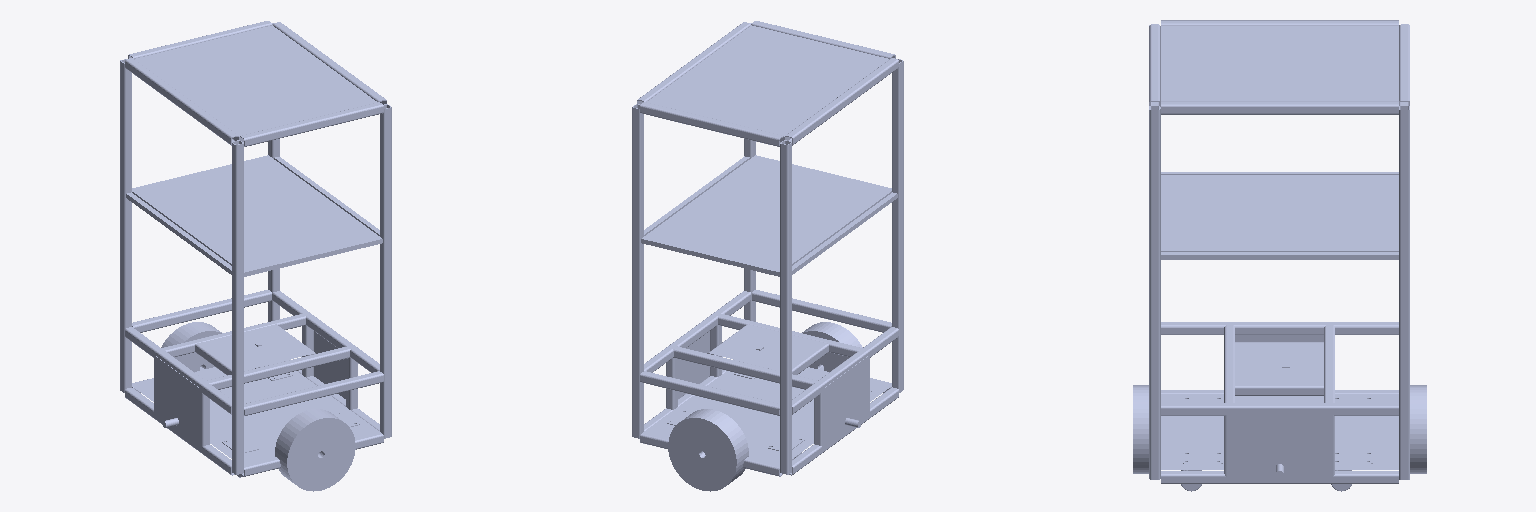
URDF robot description (amr_assembly):
<?xml version="1.0"?>
<robot name="amr_assembly">

  <!-- =====================================================================
       amr_assembly  —  differential-drive service robot (SolidWorks export)
       Cleaned for ROS 2: robot_state_publisher / tf2 / RViz2 / Gazebo.

       Frame conventions (REP-103):  +X forward, +Y left, +Z up.

       *** 180-DEG FRAME CORRECTION APPLIED ***
       The physical FRONT of the robot is the LiDAR + RealSense side.
       In the raw CAD export that side pointed to base_link -X.  base_link has
       been redefined as a proper ROS frame:
         * rotated 180 deg about Z relative to the CAD frame, so the LiDAR /
           RealSense side is now +X (forward);
         * origin placed on the drive-wheel axle centreline and midway between
           the wheels (CAD point -0.225, 0.1725, 0), so the wheel midpoint lies
           on the robot centreline (Y=0).
       NO mesh geometry was moved.  The correction lives entirely in the joint
       origin/rpy values (each mesh visual origin carries a compensating
       transform so every part stays physically where the CAD placed it).

       VERIFIED FROM MESH DATA + FRAME MATH:
         * drive wheel radius = 0.080 m (mesh X/Z span 0.1599, spin axis = +Y)
         * drive-wheel lowest point = base_link Z -0.055  ->  base_footprint OK
         * left_wheel  now at +Y (mesh wheel_1_2), right_wheel at -Y (wheel_1)
         * both wheels: +velocity about +Y  ->  +X forward motion
         * laser_frame == world orientation  -> scan plane horizontal in XY
         * imu_link   == world orientation  -> X fwd / Y left / Z up
         * camera optical Z = +X (viewing dir), X = right, Y = down (REP-103)
         * LiDAR (+X 0.19) and RealSense (+X 0.24) both on the +X/front side

       NEEDS PHYSICAL VERIFICATION (mass/inertia only — geometry is verified):
         * chassis density = SolidWorks default 1000 (water); mass 2.58 kg is a
           placeholder.  LiDAR density 4335.71 tagged "1060-H14" (Al~2700) looks
           inconsistent.  RealSense 0.038 kg vs real D435i ~0.072 kg.  Values
           are PRESERVED from the export, not invented — replace when known.
       ===================================================================== -->

  <!-- ==================== Base Footprint & Base Link ==================== -->
  <link name="base_footprint"/>

  <joint name="base_footprint_joint" type="fixed">
    <origin xyz="0 0 0.055" rpy="0 0 0" />
    <parent link="base_footprint" />
    <child link="base_link" />
  </joint>

  <link name="base_link">
    <!-- sw2robot density="1000" inertia="solidworks" -->
    <visual>
      <!-- chassis mesh rotated 90 deg and centered on wheel axle -->
      <origin xyz="0.1725 0.225 0" rpy="0 0 1.57079632679" />
      <geometry>
        <mesh filename="package://amr_assembly_description/meshes/Chassis_1.dae" />
      </geometry>
    </visual>
    <collision>
      <origin xyz="0.1725 0.225 0" rpy="0 0 1.57079632679" />
      <geometry>
        <mesh filename="package://amr_assembly_description/meshes/Chassis_1.stl" />
      </geometry>
    </collision>
    <inertial>
      <origin xyz="0.0 0.2247 0.40790949" rpy="0 0 1.57079632679" />
      <mass value="2.58114" />
      <inertia ixx="0.225004" ixy="1.30104e-18" ixz="2.47797e-05" iyy="0.204923" iyz="1.74557e-17" izz="0.107037" />
    </inertial>
  </link>

  <!-- ==================== Differential-Drive Wheels ====================
       Physical AMR Hardware layout (from photographs):
         * left_wheel  at +Y (+0.235 m) (outer side of chassis)
         * right_wheel at -Y (-0.235 m) (outer side of chassis)
         * Wheel track width W = 0.470 m
         * joint axis = "0 1 0" (+Y): positive rotation drives robot forward (+X). -->
  <link name="left_wheel">
    <!-- physical LEFT wheel (+Y); mesh wheel_1_2 -->
    <visual>
      <origin xyz="0 0 0" rpy="0 0 0" />
      <geometry>
        <mesh filename="package://amr_assembly_description/meshes/wheel_1_2.dae" />
      </geometry>
    </visual>
    <collision>
      <!-- simplified: drive-wheel primitive (r=0.070, w=0.050, axis=+Y local) -->
      <origin xyz="0 0 0" rpy="1.5707963 0 0" />
      <geometry>
        <cylinder radius="0.070" length="0.050" />
      </geometry>
    </collision>
    <inertial>
      <origin xyz="-9.7144515e-17 0.0051290801 1.5612511e-17" rpy="0 0 0" />
      <mass value="0.996474" />
      <inertia ixx="0.00181597" ixy="3.51575e-36" ixz="-4.98632e-20" iyy="0.00321674" iyz="-3.77852e-36" izz="0.00181597" />
    </inertial>
  </link>

  <joint name="left_wheel_joint" type="continuous">
    <origin xyz="0 0.235 0.015" rpy="0 0 0" />
    <parent link="base_link" />
    <child link="left_wheel" />
    <axis xyz="0 1 0" />
    <!-- mates: CONCENTRIC, CONCENTRIC -->
  </joint>

  <link name="right_wheel">
    <!-- physical RIGHT wheel (-Y); mesh wheel_1 -->
    <visual>
      <origin xyz="0 0 0" rpy="0 0 0" />
      <geometry>
        <mesh filename="package://amr_assembly_description/meshes/wheel_1.dae" />
      </geometry>
    </visual>
    <collision>
      <!-- simplified: drive-wheel primitive (r=0.070, w=0.050, axis=+Y local) -->
      <origin xyz="0 0 0" rpy="1.5707963 0 0" />
      <geometry>
        <cylinder radius="0.070" length="0.050" />
      </geometry>
    </collision>
    <inertial>
      <origin xyz="-9.5409791e-17 -0.0044220319 -4.3368087e-18" rpy="0 0 0" />
      <mass value="0.996474" />
      <inertia ixx="0.00181597" ixy="2.00001e-36" ixz="-1.80785e-19" iyy="0.00321674" iyz="-4.75791e-36" izz="0.00181597" />
    </inertial>
  </link>

  <joint name="right_wheel_joint" type="continuous">
    <origin xyz="0 -0.235 0.015" rpy="0 0 0" />
    <parent link="base_link" />
    <child link="right_wheel" />
    <axis xyz="0 1 0" />
    <!-- mates: CONCENTRIC, CONCENTRIC -->
  </joint>

  <!-- ==================== Passive Caster Wheels ==================== -->
  <link name="caster_wheel1">
    <!-- sw2robot density="1000" inertia="solidworks" -->
    <visual>
      <origin xyz="0 0 0" rpy="0 0 0" />
      <geometry>
        <mesh filename="package://amr_assembly_description/meshes/C_wheel_2_WS_1.dae" />
      </geometry>
    </visual>
    <collision>
      <!-- simplified: caster contact sphere (bottom matches CAD mesh, r=0.030) -->
      <origin xyz="0 -0.009174 -0.008682" rpy="0 0 0" />
      <geometry>
        <sphere radius="0.030" />
      </geometry>
    </collision>
    <inertial>
      <origin xyz="-5e-08 -0.008653401 0.003658362" rpy="0 0 0" />
      <mass value="0.0585304" />
      <inertia ixx="3.05e-05" ixy="-1.01609e-20" ixz="2.14745e-21" iyy="1.86277e-05" iyz="-8.03269e-06" izz="2.56674e-05" />
    </inertial>
  </link>

  <joint name="caster_wheel1_joint" type="fixed">
    <origin xyz="0.1174 0.1208 -0.007140912" rpy="1.5707963 0 0" />
    <parent link="base_link" />
    <child link="caster_wheel1" />
  </joint>

  <link name="caster_wheel2">
    <!-- sw2robot density="1000" inertia="solidworks" -->
    <visual>
      <origin xyz="0 0 0" rpy="0 0 0" />
      <geometry>
        <mesh filename="package://amr_assembly_description/meshes/C_wheel_2_WS_1.dae" />
      </geometry>
    </visual>
    <collision>
      <!-- simplified: caster contact sphere (bottom matches CAD mesh, r=0.030) -->
      <origin xyz="0 -0.009174 -0.008682" rpy="0 0 0" />
      <geometry>
        <sphere radius="0.030" />
      </geometry>
    </collision>
    <inertial>
      <origin xyz="-5e-08 -0.008653401 0.003658362" rpy="0 0 0" />
      <mass value="0.0585304" />
      <inertia ixx="3.05e-05" ixy="-1.01609e-20" ixz="2.14745e-21" iyy="1.86277e-05" iyz="-8.03269e-06" izz="2.56674e-05" />
    </inertial>
  </link>

  <joint name="caster_wheel2_joint" type="fixed">
    <origin xyz="-0.1174 -0.1499 -0.007140912" rpy="1.5707963 0 0" />
    <parent link="base_link" />
    <child link="caster_wheel2" />
  </joint>

  <link name="caster_wheel3">
    <!-- sw2robot density="1000" inertia="solidworks" -->
    <visual>
      <origin xyz="0 0 0" rpy="0 0 0" />
      <geometry>
        <mesh filename="package://amr_assembly_description/meshes/C_wheel_2_WS_1.dae" />
      </geometry>
    </visual>
    <collision>
      <!-- simplified: caster contact sphere (bottom matches CAD mesh, r=0.030) -->
      <origin xyz="0 -0.009174 -0.008682" rpy="0 0 0" />
      <geometry>
        <sphere radius="0.030" />
      </geometry>
    </collision>
    <inertial>
      <origin xyz="-5e-08 -0.008653401 0.003658362" rpy="0 0 0" />
      <mass value="0.0585304" />
      <inertia ixx="3.05e-05" ixy="-1.01609e-20" ixz="2.14745e-21" iyy="1.86277e-05" iyz="-8.03269e-06" izz="2.56674e-05" />
    </inertial>
  </link>

  <joint name="caster_wheel3_joint" type="fixed">
    <origin xyz="0.1174 -0.1499 -0.007140912" rpy="1.5707963 0 0" />
    <parent link="base_link" />
    <child link="caster_wheel3" />
  </joint>

  <link name="caster_wheel4">
    <!-- sw2robot density="1000" inertia="solidworks" -->
    <visual>
      <origin xyz="0 0 0" rpy="0 0 0" />
      <geometry>
        <mesh filename="package://amr_assembly_description/meshes/C_wheel_2_WS_1.dae" />
      </geometry>
    </visual>
    <collision>
      <!-- simplified: caster contact sphere (bottom matches CAD mesh, r=0.030) -->
      <origin xyz="0 -0.009174 -0.008682" rpy="0 0 0" />
      <geometry>
        <sphere radius="0.030" />
      </geometry>
    </collision>
    <inertial>
      <origin xyz="-5e-08 -0.008653401 0.003658362" rpy="0 0 0" />
      <mass value="0.0585304" />
      <inertia ixx="3.05e-05" ixy="-1.01609e-20" ixz="2.14745e-21" iyy="1.86277e-05" iyz="-8.03269e-06" izz="2.56674e-05" />
    </inertial>
  </link>

  <joint name="caster_wheel4_joint" type="fixed">
    <origin xyz="-0.1174 0.1208 -0.007140912" rpy="1.5707963 0 0" />
    <parent link="base_link" />
    <child link="caster_wheel4" />
  </joint>

  <!-- ==================== RPLIDAR A1 2D LiDAR ==================== -->
  <link name="lidar_link">
    <!-- sw2robot material="1060-H14" density="4335.71" inertia="solidworks" -->
    <visual>
      <origin xyz="0 0 0" rpy="0 0 0" />
      <geometry>
        <mesh filename="package://amr_assembly_description/meshes/RPLIDAR_A1_1_1.dae" />
      </geometry>
    </visual>
    <collision>
      <!-- simplified: RPLIDAR bounding box (CAD collision mesh was 666k verts) -->
      <origin xyz="0.007551 -0.001935 -0.000714" rpy="0 0 0" />
      <geometry>
        <box size="0.097455 0.055500 0.071769" />
      </geometry>
    </collision>
    <inertial>
      <origin xyz="0.006729702 -0.003001698 -0.000182521" rpy="0 0 0" />
      <mass value="0.317515" />
      <inertia ixx="0.00013828" ixy="-2.82363e-05" ixz="-2.57853e-06" iyy="0.000313414" iyz="1.65427e-06" izz="0.000267995" />
    </inertial>
  </link>

  <joint name="lidar_joint" type="fixed">
    <origin xyz="0.180 0.0 0.760213094" rpy="1.5707963 0 3.14159265359" />
    <parent link="base_link" />
    <child link="lidar_link" />
  </joint>

  <link name="laser_frame"/>

  <!-- laser_joint aligns the scan frame to world (X fwd, Y left, Z up) so the
       2D scan sweeps the horizontal XY plane. -->
  <joint name="laser_joint" type="fixed">
    <origin xyz="0 0 0" rpy="1.5707963 0 -3.14159265359" />
    <parent link="lidar_link" />
    <child link="laser_frame" />
  </joint>

  <!-- ==================== Intel RealSense Depth Camera ==================== -->
  <link name="camera_link">
    <!-- sw2robot density="1037.94" inertia="solidworks" -->
    <visual>
      <origin xyz="0 0 0" rpy="0 0 0" />
      <geometry>
        <mesh filename="package://amr_assembly_description/meshes/Intel_RealSense_Depth_Camera_D435i_1.dae" />
      </geometry>
    </visual>
    <collision>
      <!-- simplified: RealSense bounding box (CAD collision mesh was 371k verts) -->
      <origin xyz="0.000489 0.000050 -0.002050" rpy="0 0 0" />
      <geometry>
        <box size="0.089915 0.025000 0.025052" />
      </geometry>
    </collision>
    <inertial>
      <origin xyz="0.002129176 5.2113e-05 -0.002796544" rpy="0 0 0" />
      <mass value="0.0381912" />
      <inertia ixx="3.66644e-06" ixy="-1.28474e-08" ixz="-1.60586e-07" iyy="2.4858e-05" iyz="-1.2968e-08" izz="2.46858e-05" />
    </inertial>
  </link>

  <joint name="camera_joint" type="fixed">
    <origin xyz="0.215 0.0 0.156845974" rpy="1.79844 0 1.5707963" />
    <parent link="base_link" />
    <child link="camera_link" />
  </joint>

  <link name="camera_depth_optical_frame"/>

  <!-- optical frame: Z = viewing direction, X = right, Y = down (REP-103) -->
  <joint name="camera_optical_joint" type="fixed">
    <origin xyz="0 0 0" rpy="0 0 3.14159265359" />
    <parent link="camera_link" />
    <child link="camera_depth_optical_frame" />
  </joint>

  <!-- ==================== IMU ==================== -->
  <link name="imu_link">
    <!-- sw2robot density="1000" inertia="solidworks" ; imu_link = world frame,
         mesh visual origin compensated to keep the physical part in place. -->
    <visual>
      <origin xyz="0 0 0" rpy="-3.14159265359 0 0" />
      <geometry>
        <mesh filename="package://amr_assembly_description/meshes/imu_1.dae" />
      </geometry>
    </visual>
    <collision>
      <origin xyz="0 0 0" rpy="-3.14159265359 0 0" />
      <geometry>
        <mesh filename="package://amr_assembly_description/meshes/imu_1.stl" />
      </geometry>
    </collision>
    <inertial>
      <origin xyz="-3.3e-07 -6e-08 0" rpy="-3.14159265359 0 0" />
      <mass value="0.000409729" />
      <inertia ixx="6.45437e-09" ixy="-5.29396e-24" ixz="0" iyy="3.84494e-09" iyz="-1.8498e-25" izz="9.68472e-09" />
    </inertial>
  </link>

  <joint name="imu_joint" type="fixed">
    <origin xyz="0.012176 0.011495 0.146499993" rpy="0 0 0" />
    <parent link="base_link" />
    <child link="imu_link" />
  </joint>

</robot>

--- What the picture shows (computed from the rendered views, not written in the file) ---
The picture shows the robot from 3 angles, left to right: view 1: azimuth 30°, elevation 25°; view 2: azimuth 150°, elevation 25°; view 3: azimuth 270°, elevation 25°; orthographic projection.
Robot: amr_assembly — 13 links, 12 joints (2 continuous, 10 fixed); root link base_footprint; default pose: every joint at zero.
Links seen in each view (by area): view 1: base_link, right_wheel, left_wheel; view 2: base_link, left_wheel, right_wheel; view 3: base_link, left_wheel, right_wheel, caster_wheel3, caster_wheel1.
Boxes of the visible links, left/top/right/bottom form: base_link: left=120, top=21, right=391, bottom=476; right_wheel: left=275, top=409, right=355, bottom=491; left_wheel: left=161, top=322, right=221, bottom=371; base_link: left=632, top=21, right=903, bottom=476; left_wheel: left=668, top=409, right=748, bottom=491; right_wheel: left=802, top=322, right=862, bottom=371; base_link: left=1149, top=20, right=1409, bottom=483; left_wheel: left=1410, top=385, right=1426, bottom=473; right_wheel: left=1133, top=385, right=1148, bottom=473; caster_wheel3: left=1181, top=452, right=1222, bottom=491; caster_wheel1: left=1331, top=452, right=1372, bottom=491.
Size in the robot's own frame: 0.427 by 0.5296 by 0.81 metres.
Meshes: 7 distinct files referenced, 8 mesh visuals loaded (5 Collada DAE); not drawn: 2 (reference not matched to a file when rendering).
